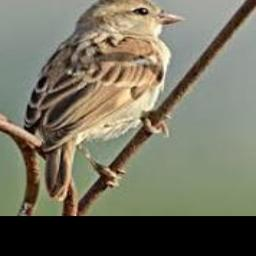Sparrow: (24, 0, 186, 202)
